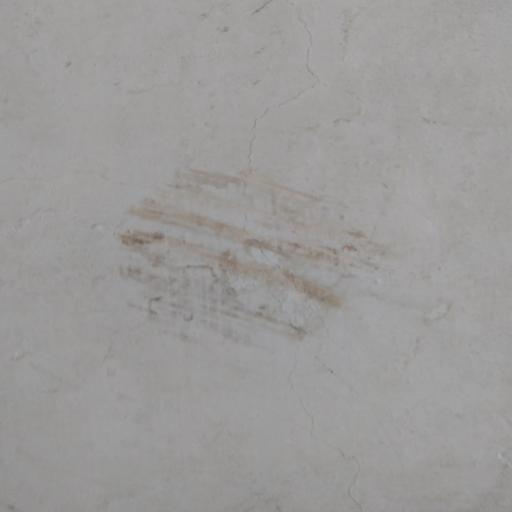stain: (101, 131, 406, 374)
